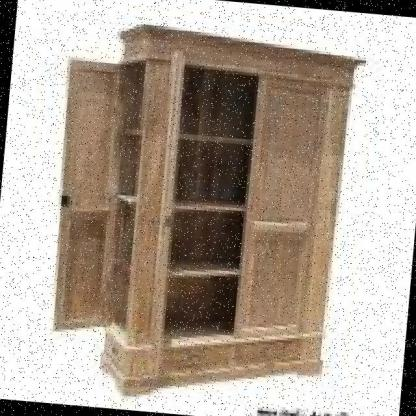Closet: (35, 13, 373, 416)
